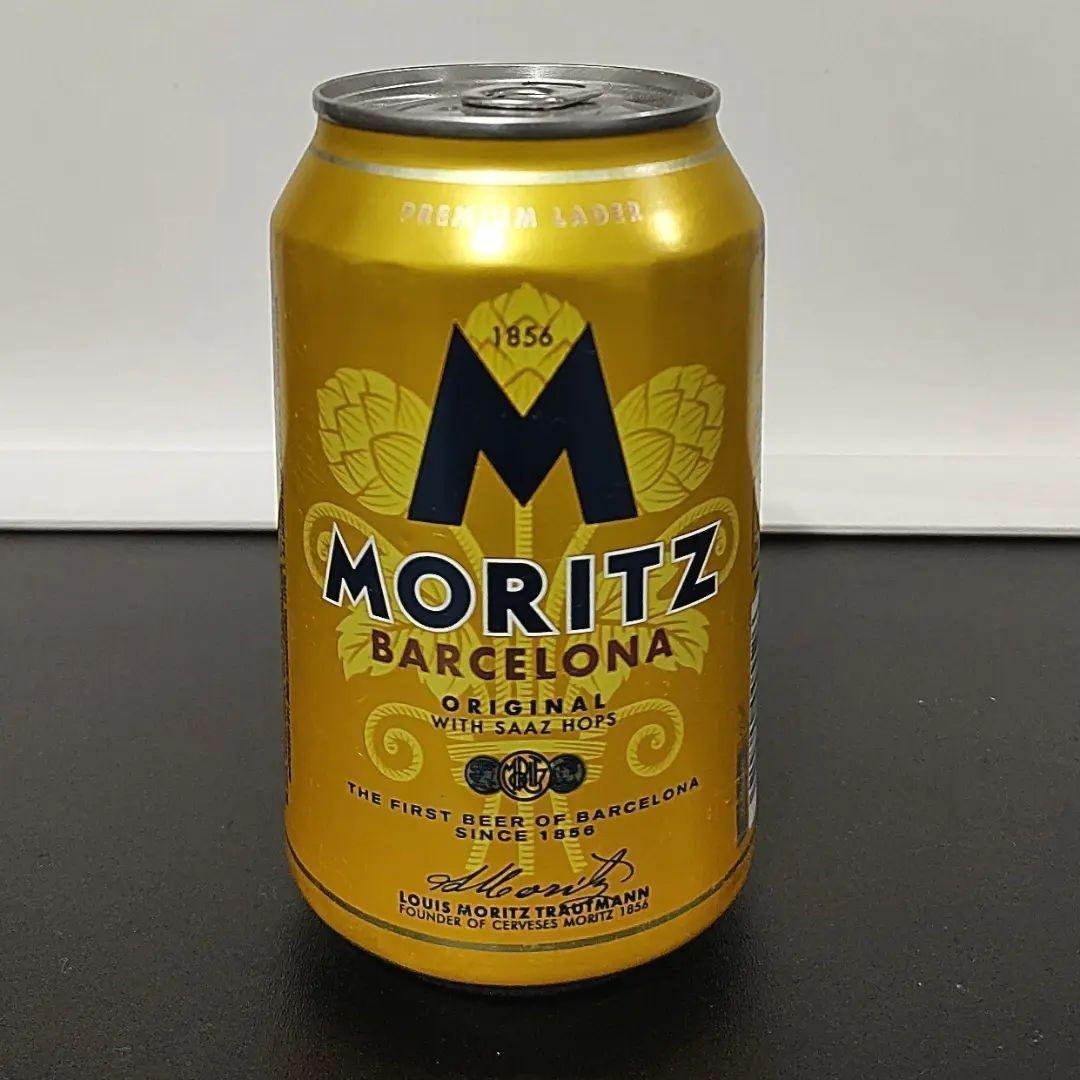tin can: (254, 53, 786, 1007)
